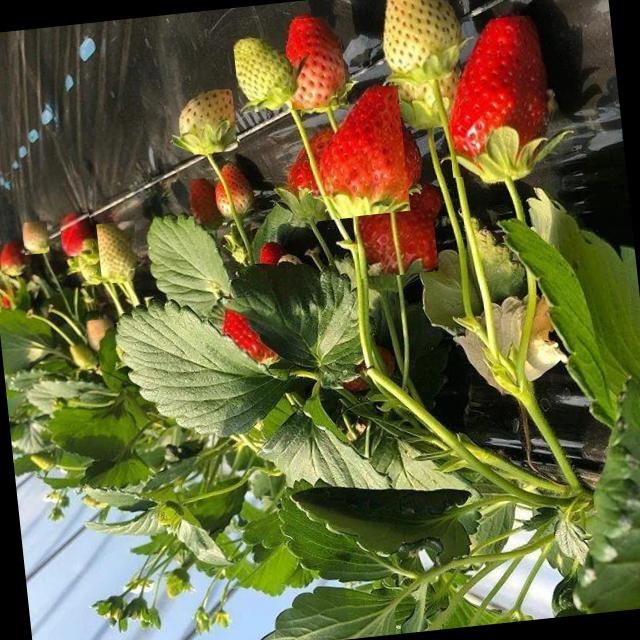ripe: (437, 12, 566, 178), (302, 84, 410, 220), (274, 15, 348, 110), (354, 208, 438, 278), (212, 294, 280, 368), (190, 176, 219, 232), (58, 212, 92, 256), (0, 241, 32, 275)
unripe: (377, 0, 462, 85), (167, 88, 238, 156), (232, 34, 292, 112), (399, 76, 462, 130), (96, 220, 140, 284), (68, 334, 100, 371), (85, 317, 116, 350), (21, 220, 49, 254)
